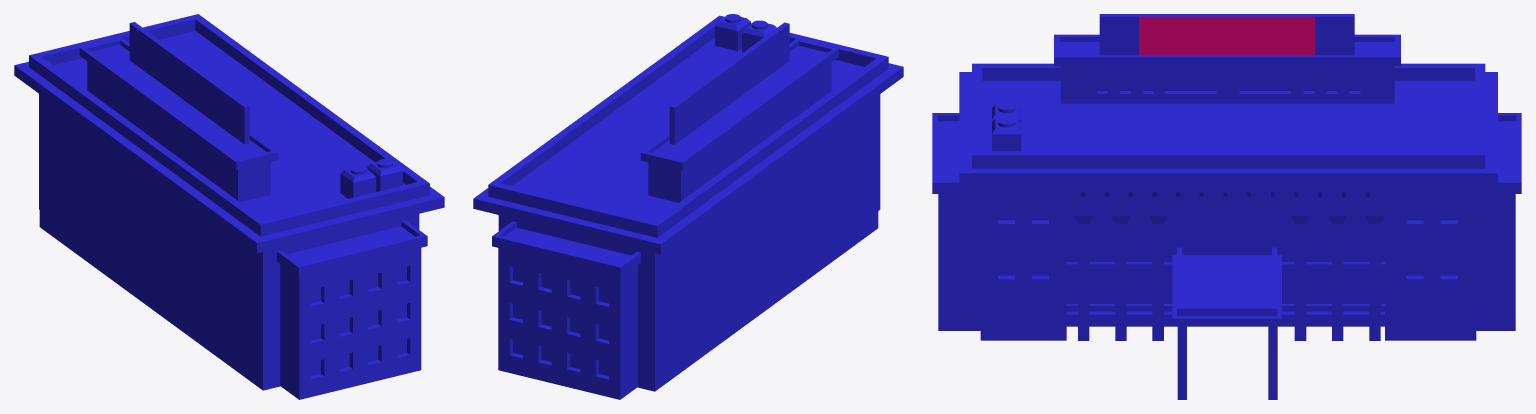
3 renders of one model, left to right at view 1: azimuth 30°, elevation 25°; view 2: azimuth 150°, elevation 25°; view 3: azimuth 270°, elevation 25°, orthographic. The views are drawn at different scales.
Parts seen in each view (by area): view 1: Cube.010; view 2: Cube.010; view 3: Cube.010.
Part boxes in pixels (x1,y1,x2,y2): Cube.010: [14, 14, 444, 399]; Cube.010: [473, 14, 903, 399]; Cube.010: [932, 14, 1521, 399].
Bounding box in the file's own units: 75.46 × 74.41 × 140.
